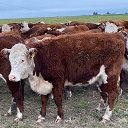vaca: (6, 27, 127, 123)
